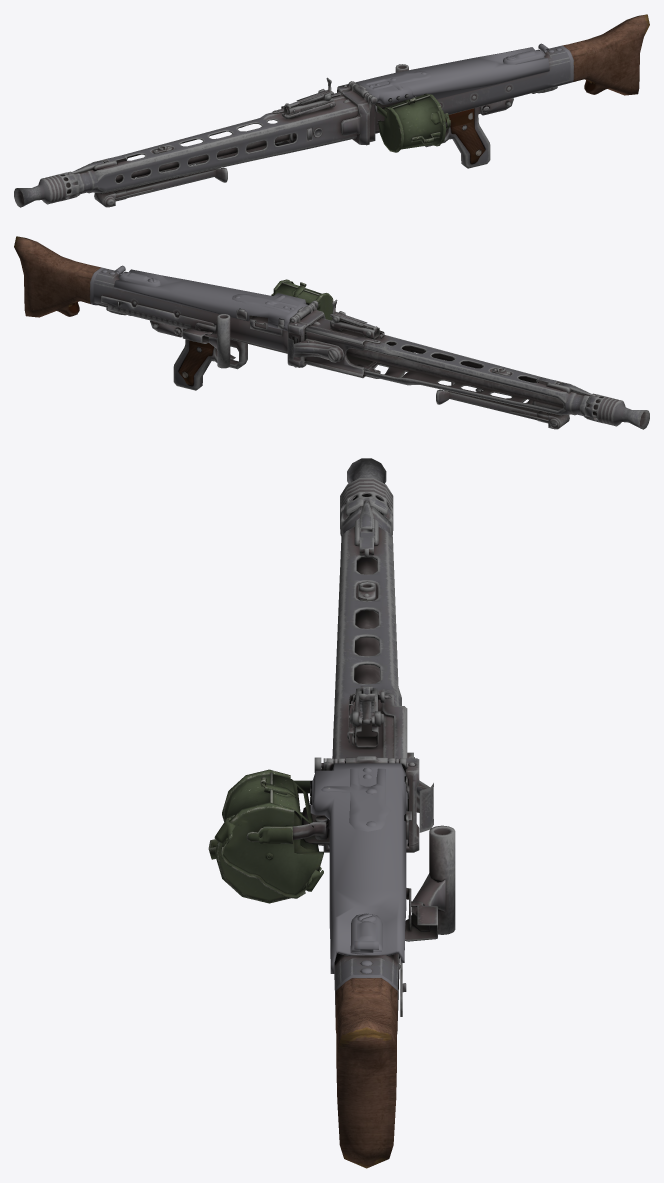
The picture shows the model from 3 angles, top to bottom: view 1: azimuth 30°, elevation 25°; view 2: azimuth 150°, elevation 25°; view 3: azimuth 270°, elevation 25°; orthographic projection. The views are drawn at different scales.
Visible parts, largest first — view 1: MG42; view 2: MG42; view 3: MG42.
Part boxes in pixels (x1,y1,x2,y2): MG42: (14, 14, 649, 207); MG42: (14, 236, 649, 429); MG42: (208, 458, 455, 1168).
Size of the model in its own units: 1.21 by 0.2241 by 0.2064.
Materials: 1 (1 with a texture image).
